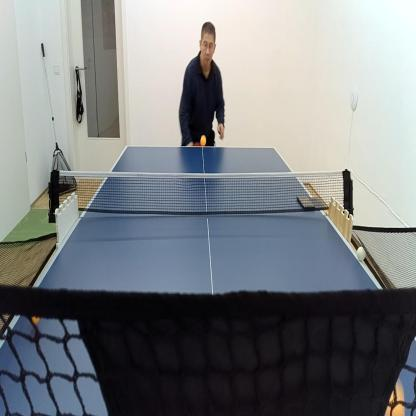Ball: (355, 244, 367, 262), (199, 133, 207, 148)
